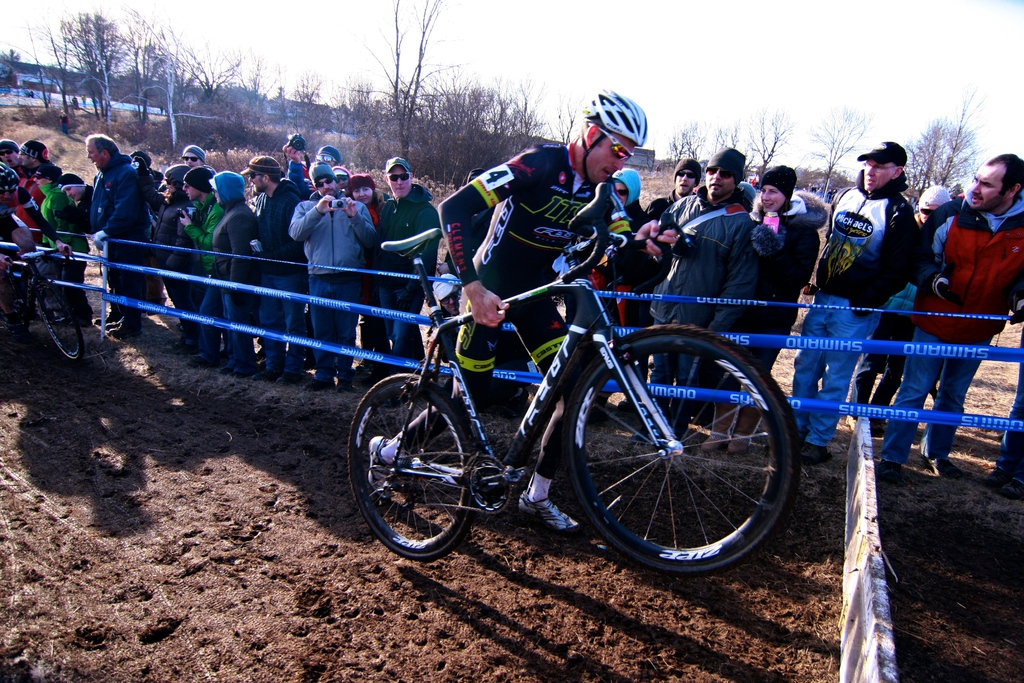Bike: (348, 217, 798, 575)
